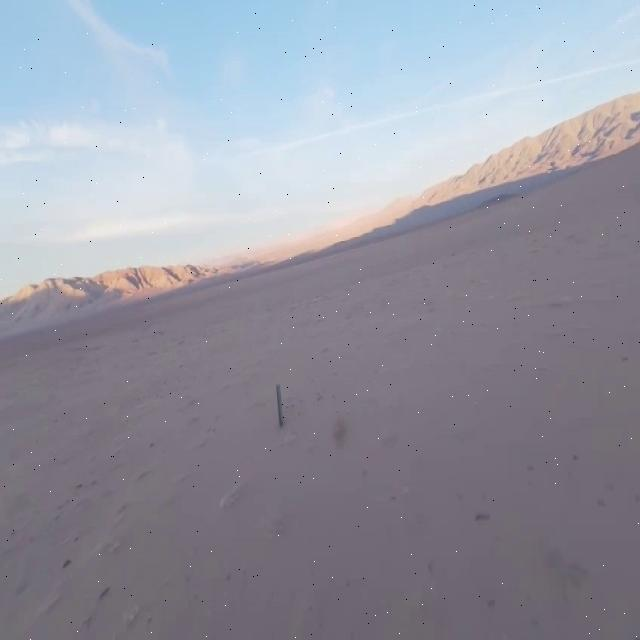Tire: (277, 384, 284, 426)
